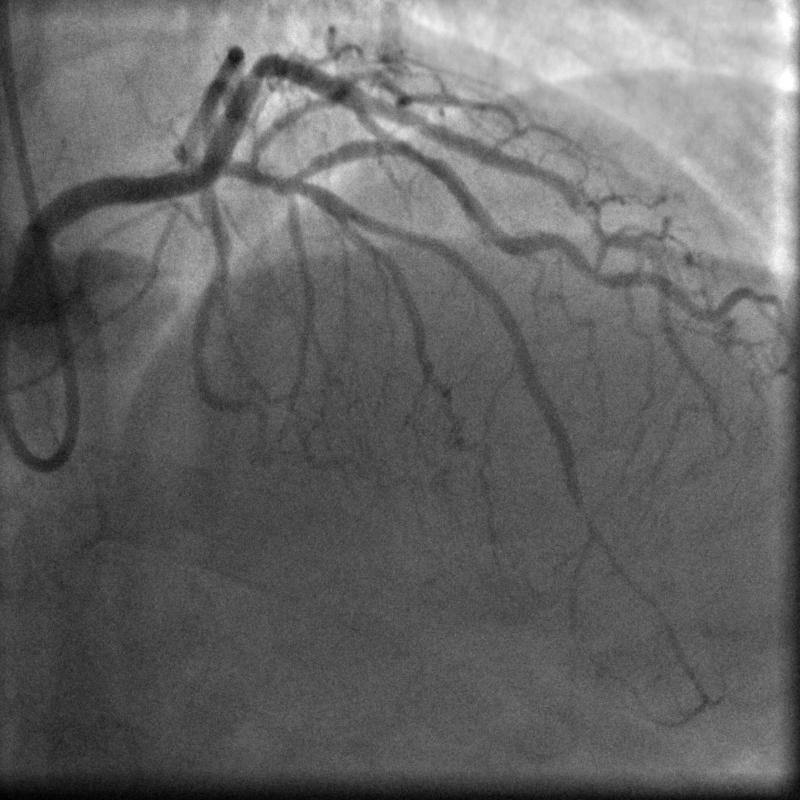Stenosis: (394, 135, 452, 186)
